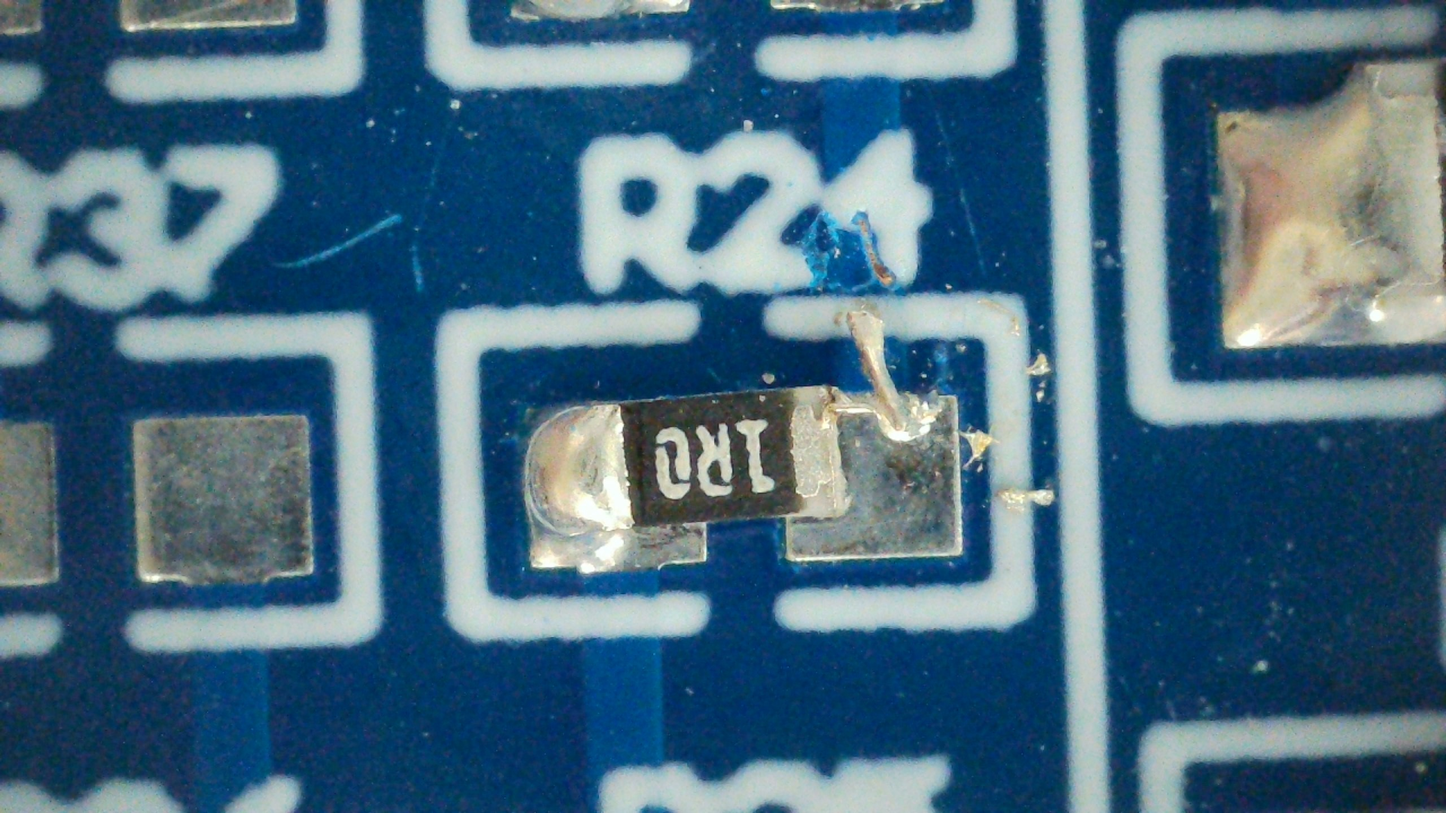NG: (525, 312, 962, 576)
